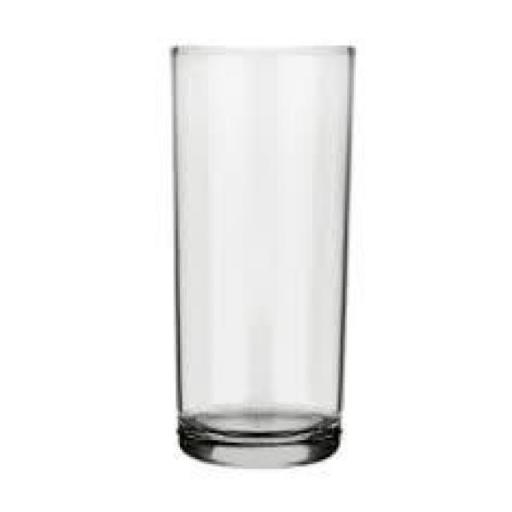glass: (146, 24, 380, 486)
